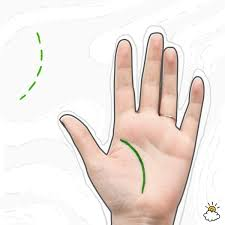palm: (108, 123, 191, 211)
